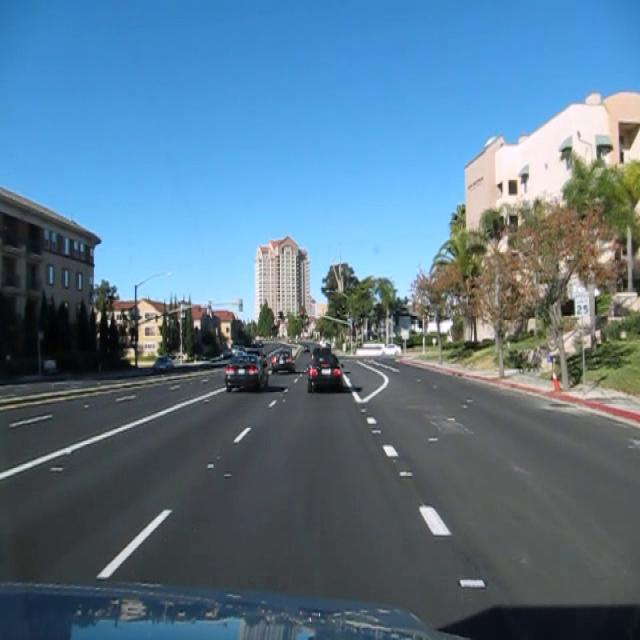speedLimit25: (573, 290, 590, 318)
